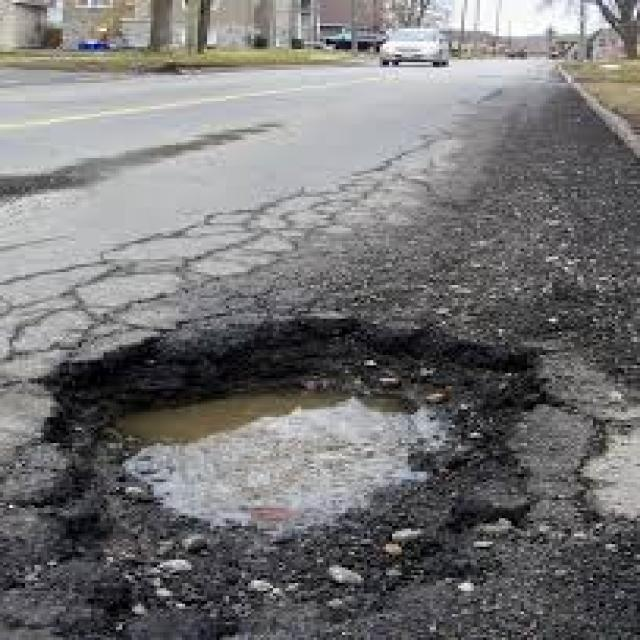Pothole: (82, 352, 640, 640)
